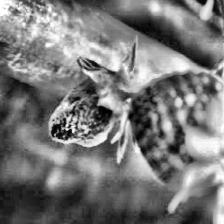Gray Mold: (48, 39, 136, 164)
